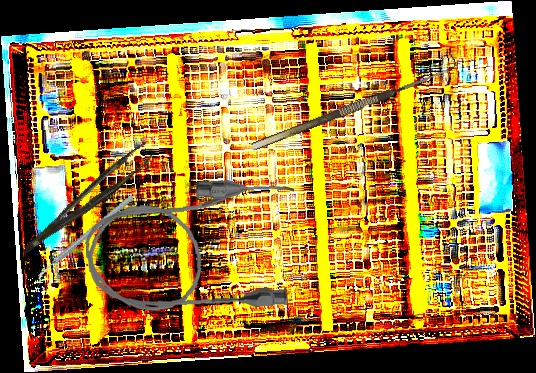Cannula: (81, 175, 303, 319)
Chopper: (20, 193, 150, 286)
Hook Surgical: (246, 53, 460, 151)
Tissue Forceps: (10, 140, 162, 255)
